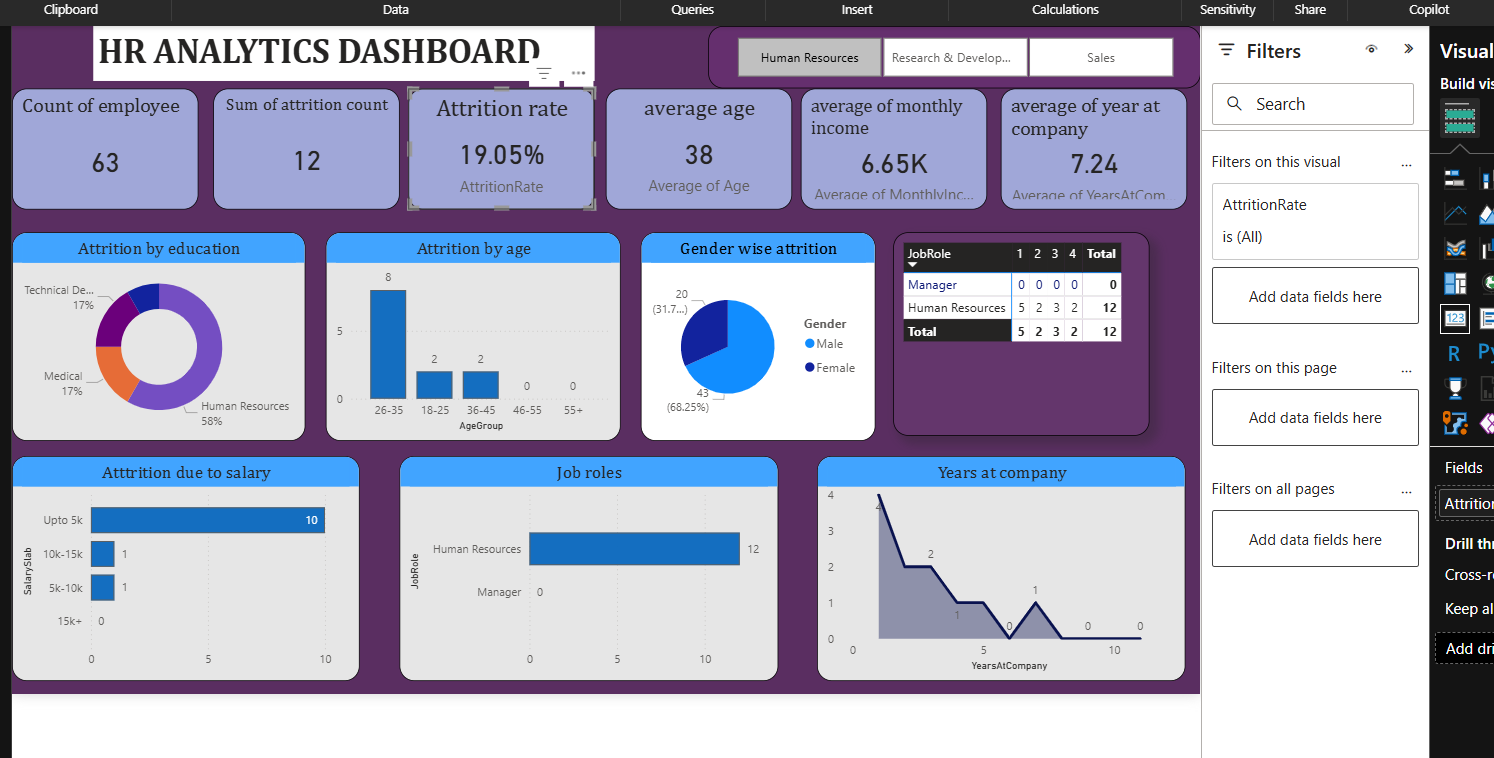

This screenshot's page, from the dashboard's own definition file:
{"tool":"powerbi","page":{"name":"Page 1","canvas":[1280,720],"ordinal":0},"visuals":[{"type":"card","title":"Sum of attrition count","fields":{"Values":["Sum(HR_Analytics.Attrition Count)"]},"box":[216.7,67.3,200.6,130.6],"z":0},{"type":"card","title":"Count of employee","fields":{"Values":["CountNonNull(HR_Analytics.EmpID)"]},"box":[0,67.3,200.6,130.6],"z":1000},{"type":"card","title":"Attrition rate","fields":{"Values":["HR_Analytics.AttritionRate"]},"box":[426.8,67.3,200.6,130.6],"z":2000},{"type":"card","title":"average age","fields":{"Values":["Avg(HR_Analytics.Age)"]},"box":[639.5,67.3,200.6,130.6],"z":3000},{"type":"card","title":"average of monthly income","fields":{"Values":["Avg(HR_Analytics.MonthlyIncome)"]},"box":[849.5,67.3,200.6,130.6],"z":4000},{"type":"card","title":"average of year at company","fields":{"Values":["Avg(HR_Analytics.YearsAtCompany)"]},"box":[1064.9,67.3,200.6,130.6],"z":5000},{"type":"donutChart","title":"Attrition by education","fields":{"Y":["Sum(HR_Analytics.Attrition Count)"],"Category":["HR_Analytics.EducationField"]},"box":[0,222.1,316.4,224.8],"z":6000},{"type":"columnChart","title":"Attrition by age","fields":{"Category":["HR_Analytics.AgeGroup"],"Y":["Sum(HR_Analytics.Attrition Count)"]},"box":[337.9,222.1,317.7,224.8],"z":7000},{"type":"pivotTable","fields":{"Rows":["HR_Analytics.JobRole"],"Columns":["HR_Analytics.JobSatisfaction"],"Values":["Sum(HR_Analytics.Attrition Count)"]},"box":[949.1,222.1,276,219.4],"z":8000},{"type":"barChart","title":"Atttrition due to  salary","fields":{"Category":["HR_Analytics.SalarySlab"],"Y":["Sum(HR_Analytics.Attrition Count)"]},"box":[0,463.1,374.3,242.3],"z":9000},{"type":"barChart","title":"Job roles","fields":{"Category":["HR_Analytics.JobRole"],"Y":["Sum(HR_Analytics.Attrition Count)"]},"box":[417.3,463.1,407.9,242.3],"z":10000},{"type":"areaChart","title":"Years at company","fields":{"Category":["HR_Analytics.YearsAtCompany"],"Y":["Sum(HR_Analytics.Attrition Count)"]},"box":[867,463.1,397.1,242.3],"z":11000},{"type":"pieChart","title":"Gender wise attrition","fields":{"Category":["HR_Analytics.Gender"],"Y":["CountNonNull(HR_Analytics.Attrition Count)"]},"box":[677.2,222.1,253.1,224.8],"z":12000},{"type":"slicer","fields":{"Values":["HR_Analytics.Department"]},"box":[749.9,0,530.4,67.3],"z":13000},{"type":"textbox","box":[87.5,0,539.8,59.2],"z":14000}]}

Visuals, with their boxes on the page's 1280x720 design canvas (x1, y1, x2, y2). These are canvas units, not pixel positions in the 1494x758 screenshot, which may show the page scaled, cropped or inside an application window:
"Sum of attrition count" card: left=217, top=67, right=417, bottom=198
"Count of employee" card: left=0, top=67, right=201, bottom=198
"Attrition rate" card: left=427, top=67, right=627, bottom=198
"average age" card: left=640, top=67, right=840, bottom=198
"average of monthly income" card: left=850, top=67, right=1050, bottom=198
"average of year at company" card: left=1065, top=67, right=1266, bottom=198
"Attrition by education" donutChart: left=0, top=222, right=316, bottom=447
"Attrition by age" columnChart: left=338, top=222, right=656, bottom=447
pivotTable - HR_Analytics.JobRole x HR_Analytics.JobSatisfaction: left=949, top=222, right=1225, bottom=442
"Atttrition due to  salary" barChart: left=0, top=463, right=374, bottom=705
"Job roles" barChart: left=417, top=463, right=825, bottom=705
"Years at company" areaChart: left=867, top=463, right=1264, bottom=705
"Gender wise attrition" pieChart: left=677, top=222, right=930, bottom=447
slicer - HR_Analytics.Department: left=750, top=0, right=1280, bottom=67
textbox: left=88, top=0, right=627, bottom=59
